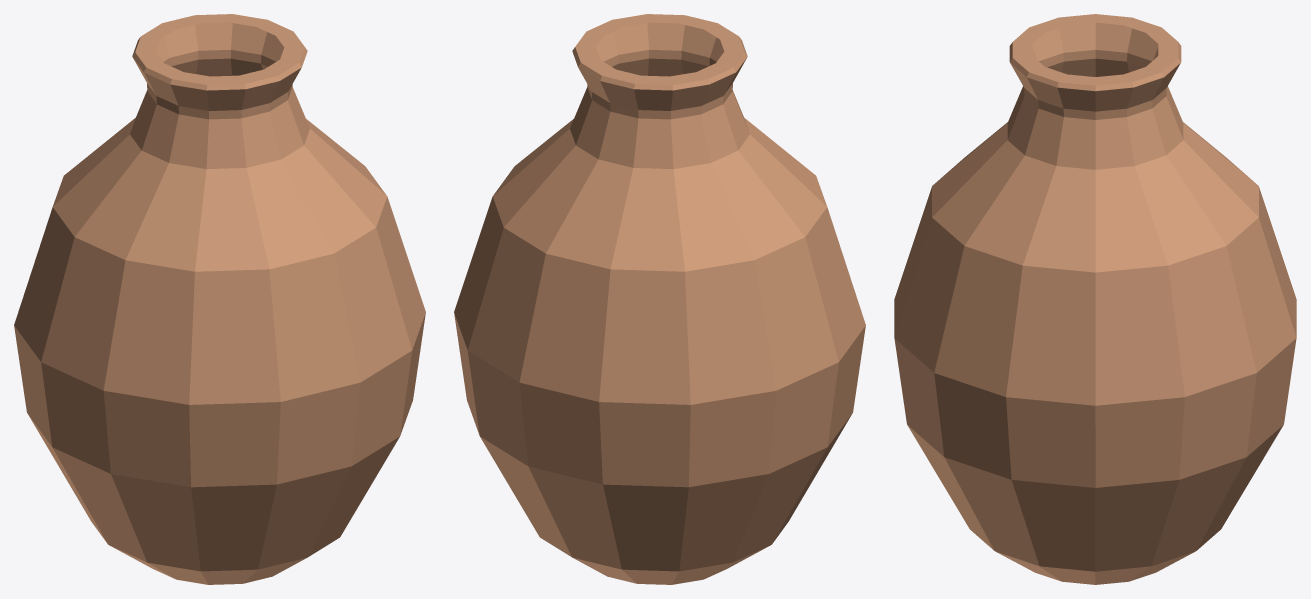
Rendered from SM_DST_Prop_Pot_Clay_L_Frac.fbx.
The picture shows the model from 3 angles, left to right: view 1: azimuth 30°, elevation 25°; view 2: azimuth 150°, elevation 25°; view 3: azimuth 270°, elevation 25°; orthographic projection.
Parts seen in each view (by area): view 1: SM_DST_Prop_Pot_Clay_L.002_p01, SM_DST_Prop_Pot_Clay_L.002_p08, SM_DST_Prop_Pot_Clay_L.002_p00, SM_DST_Prop_Pot_Clay_L.002_p11, SM_DST_Prop_Pot_Clay_L.002_p09, SM_DST_Prop_Pot_Clay_L.002_p02, SM_DST_Prop_Pot_Clay_L.002_p03; view 2: SM_DST_Prop_Pot_Clay_L.002_p01, SM_DST_Prop_Pot_Clay_L.002_p06, SM_DST_Prop_Pot_Clay_L.002_p02, SM_DST_Prop_Pot_Clay_L.002_p07, SM_DST_Prop_Pot_Clay_L.002_p10, SM_DST_Prop_Pot_Clay_L.002_p00, SM_DST_Prop_Pot_Clay_L.002_p05, SM_DST_Prop_Pot_Clay_L.002_p03, SM_DST_Prop_Pot_Clay_L.002_p11; view 3: SM_DST_Prop_Pot_Clay_L.002_p00, SM_DST_Prop_Pot_Clay_L.002_p06, SM_DST_Prop_Pot_Clay_L.002_p01, SM_DST_Prop_Pot_Clay_L.002_p09, SM_DST_Prop_Pot_Clay_L.002_p08, SM_DST_Prop_Pot_Clay_L.002_p04, SM_DST_Prop_Pot_Clay_L.002_p05, SM_DST_Prop_Pot_Clay_L.002_p10.
Part boxes in pixels (x1=…): SM_DST_Prop_Pot_Clay_L.002_p01: x1=27, y1=14, x2=282, y2=383; SM_DST_Prop_Pot_Clay_L.002_p08: x1=166, y1=286, x2=424, y2=487; SM_DST_Prop_Pot_Clay_L.002_p00: x1=213, y1=27, x2=425, y2=322; SM_DST_Prop_Pot_Clay_L.002_p11: x1=80, y1=372, x2=274, y2=575; SM_DST_Prop_Pot_Clay_L.002_p09: x1=216, y1=351, x2=420, y2=583; SM_DST_Prop_Pot_Clay_L.002_p02: x1=14, y1=311, x2=88, y2=499; SM_DST_Prop_Pot_Clay_L.002_p03: x1=66, y1=478, x2=236, y2=584; SM_DST_Prop_Pot_Clay_L.002_p01: x1=546, y1=21, x2=863, y2=353; SM_DST_Prop_Pot_Clay_L.002_p06: x1=454, y1=153, x2=596, y2=434; SM_DST_Prop_Pot_Clay_L.002_p02: x1=625, y1=336, x2=857, y2=537; SM_DST_Prop_Pot_Clay_L.002_p07: x1=586, y1=274, x2=798, y2=472; SM_DST_Prop_Pot_Clay_L.002_p10: x1=515, y1=466, x2=678, y2=577; SM_DST_Prop_Pot_Clay_L.002_p00: x1=505, y1=14, x2=708, y2=179; SM_DST_Prop_Pot_Clay_L.002_p05: x1=462, y1=369, x2=612, y2=494; SM_DST_Prop_Pot_Clay_L.002_p03: x1=619, y1=491, x2=803, y2=584; SM_DST_Prop_Pot_Clay_L.002_p11: x1=801, y1=319, x2=865, y2=499; SM_DST_Prop_Pot_Clay_L.002_p00: x1=916, y1=47, x2=1150, y2=420; SM_DST_Prop_Pot_Clay_L.002_p06: x1=1083, y1=184, x2=1296, y2=449; SM_DST_Prop_Pot_Clay_L.002_p01: x1=957, y1=14, x2=1262, y2=198; SM_DST_Prop_Pot_Clay_L.002_p09: x1=911, y1=413, x2=1108, y2=559; SM_DST_Prop_Pot_Clay_L.002_p08: x1=894, y1=209, x2=1034, y2=446; SM_DST_Prop_Pot_Clay_L.002_p04: x1=1011, y1=485, x2=1203, y2=584; SM_DST_Prop_Pot_Clay_L.002_p05: x1=1088, y1=392, x2=1288, y2=521; SM_DST_Prop_Pot_Clay_L.002_p10: x1=1202, y1=449, x2=1268, y2=545.
Bounding box in the file's own units: 0.64 × 0.86 × 0.624.
